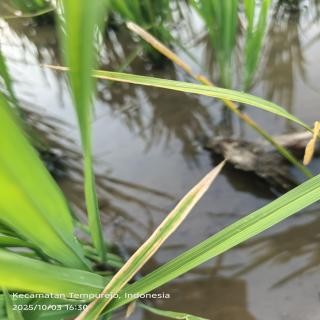Hawar-Daun: (104, 166, 219, 292)
